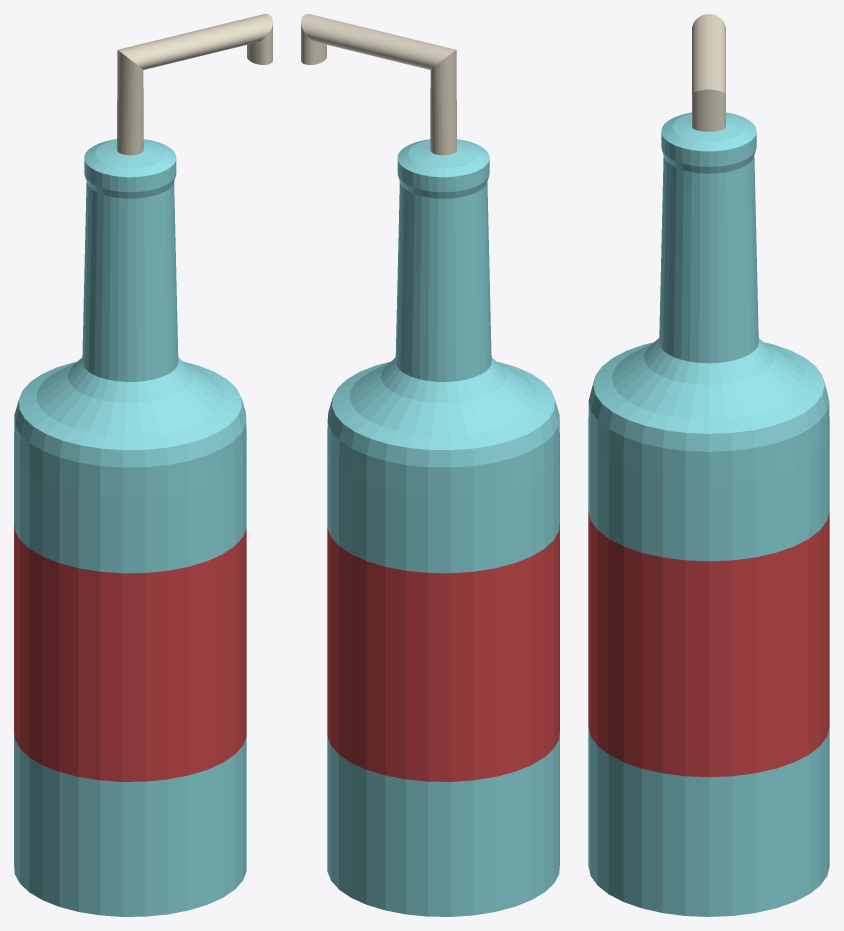
File: syrup bottle.glb
The picture shows the model from 3 angles, left to right: view 1: azimuth 30°, elevation 25°; view 2: azimuth 150°, elevation 25°; view 3: azimuth 270°, elevation 25°; orthographic projection. The views are drawn at different scales.
Visible parts, largest first — view 1: syrup bottle; view 2: syrup bottle; view 3: syrup bottle.
Part boxes in pixels (x1,y1,x2,y2): syrup bottle: [14, 14, 272, 916]; syrup bottle: [301, 14, 559, 916]; syrup bottle: [588, 14, 829, 916].
Size of the model in its own units: 0.5958 by 1.94 by 0.5.
